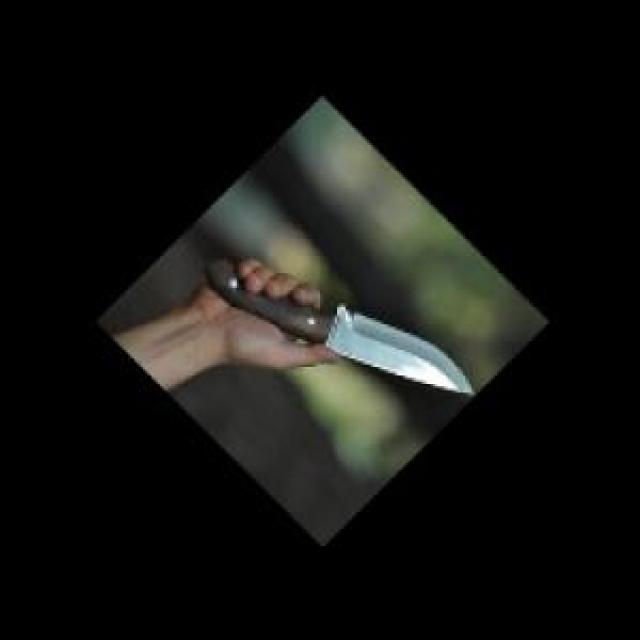knife: (205, 248, 484, 403)
